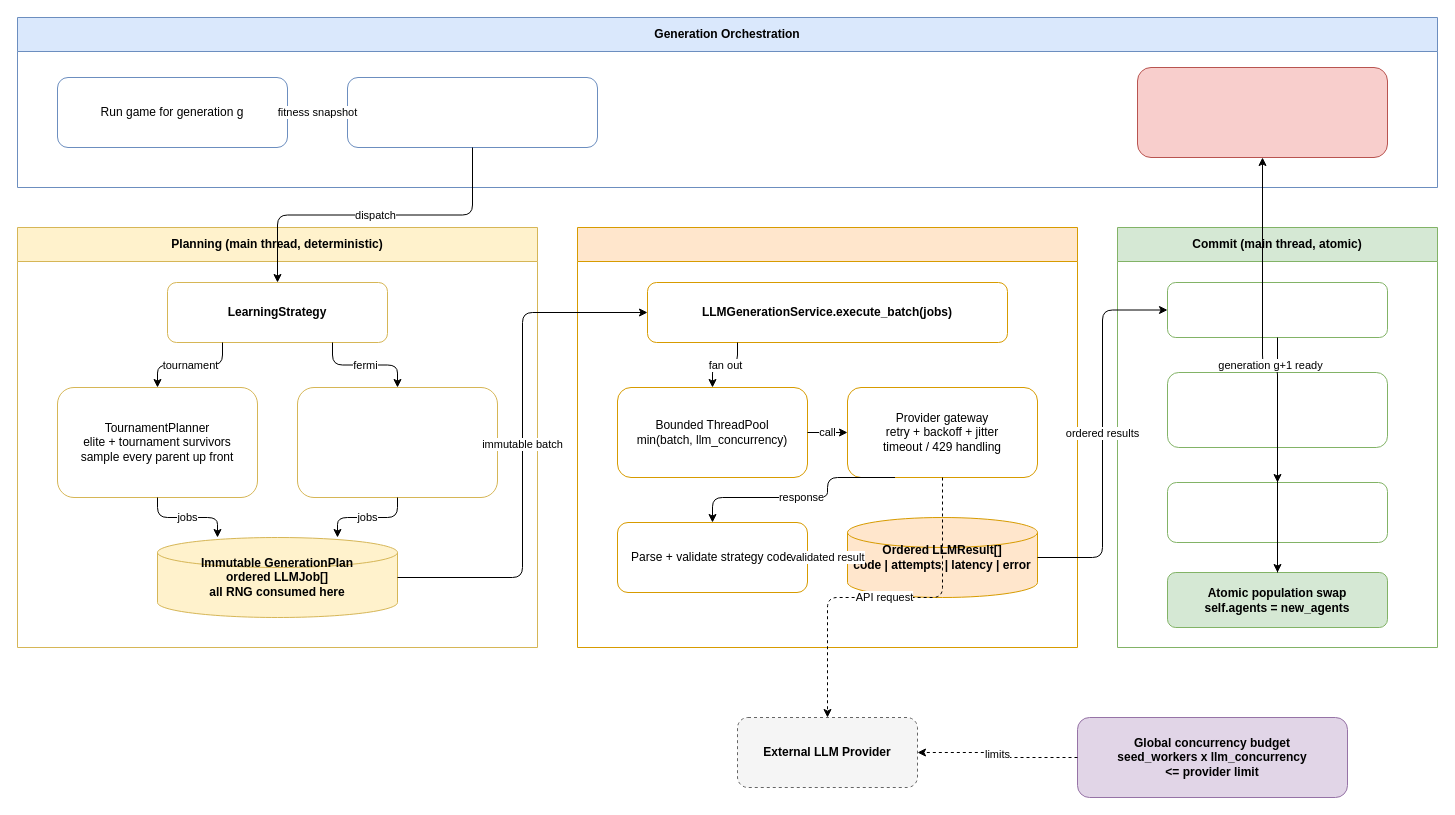
Image size: 1455x815. Some labels were removed from this diagram. The shapes that lost their labels are listed below. From the top down, each one's box as (x1, y1, x2, y2) in pixels, then its label:
(346, 76, 598, 148): Freeze fitness + population snapshot
(1136, 66, 1388, 158): Generation barrier Do not start g+1 early
(1166, 282, 1388, 338): Sort by job ordinal
(1166, 372, 1388, 448): Apply per-job fallback instantiate with real agent_id
(296, 386, 498, 498): FermiPlanner accepted copy events (existing batch shape)
(576, 226, 1078, 648): LLM execution (parallel, state-free workers)
(1166, 482, 1388, 542): Update counters + lineage
